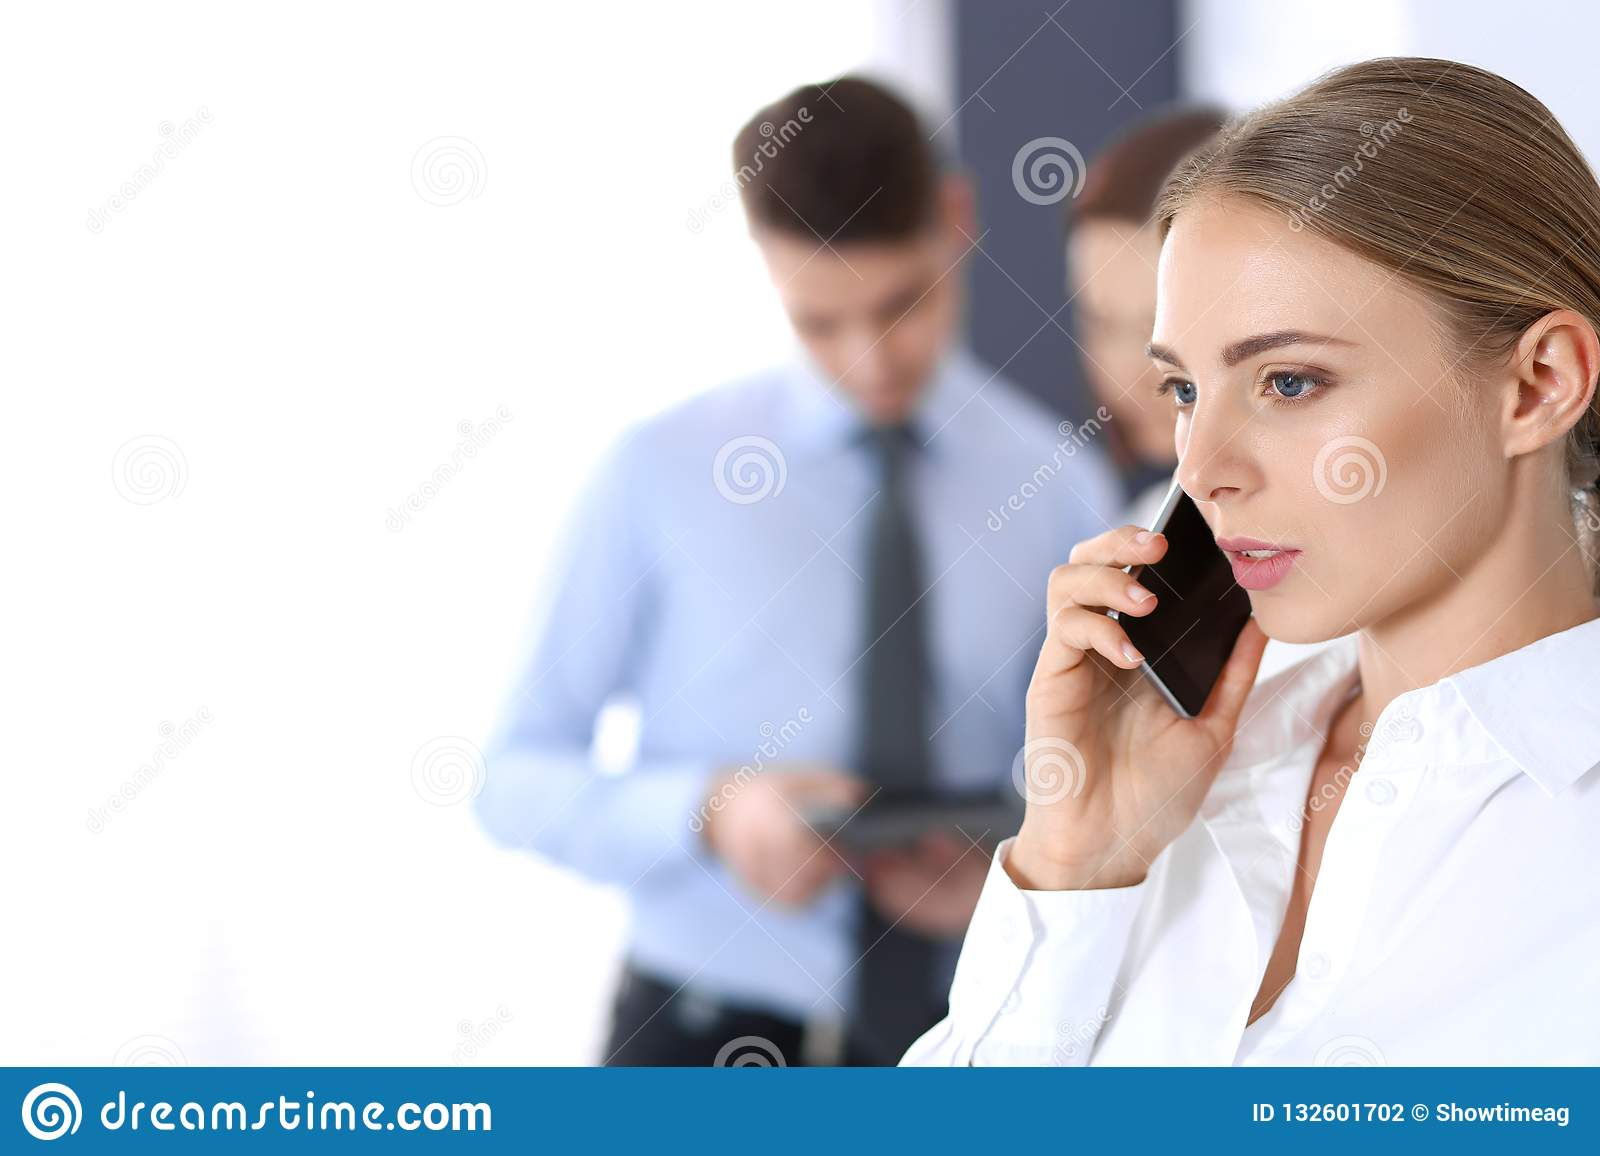phone: (1108, 474, 1256, 733)
talk: (1021, 307, 1364, 869)
